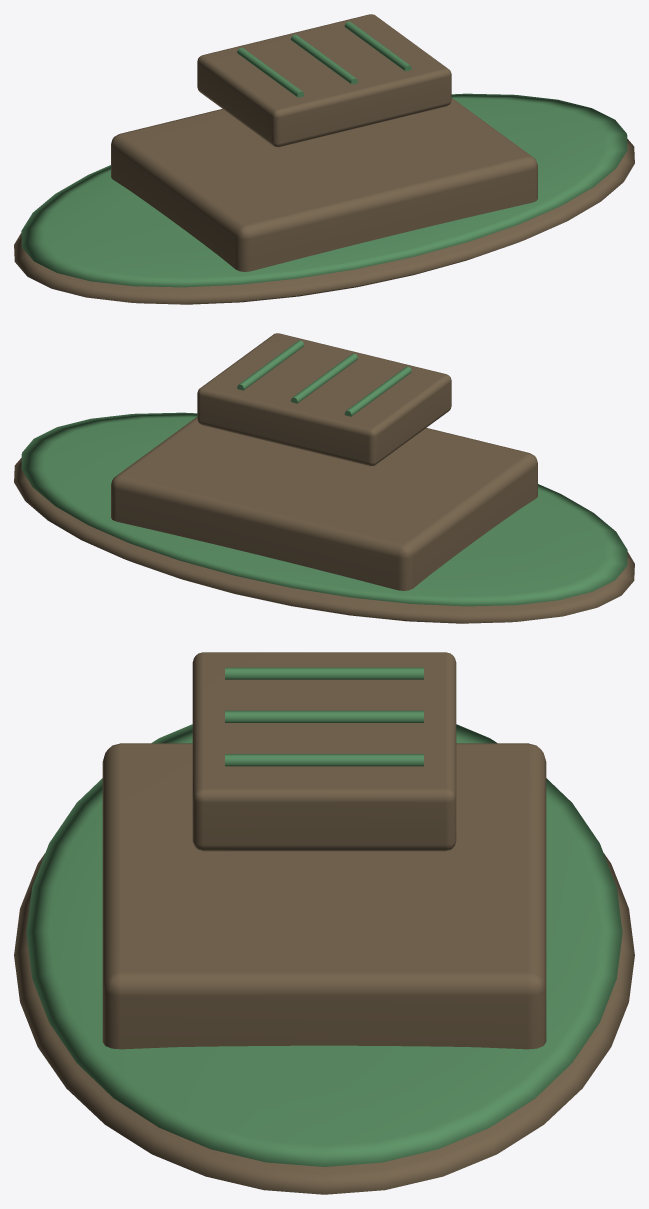
The model's file is inside-field.glb.
3 renders of one model, top to bottom at view 1: azimuth 30°, elevation 25°; view 2: azimuth 150°, elevation 25°; view 3: azimuth 270°, elevation 25°, orthographic. The views are drawn at different scales.
Visible parts, largest first — view 1: inside-field_surface_00, inside-field_surface_01; view 2: inside-field_surface_00, inside-field_surface_01; view 3: inside-field_surface_00, inside-field_surface_01.
Part boxes in pixels (x1,y1,x2,y2): inside-field_surface_00: [14, 14, 634, 304]; inside-field_surface_01: [21, 21, 627, 287]; inside-field_surface_00: [14, 333, 634, 623]; inside-field_surface_01: [21, 340, 627, 606]; inside-field_surface_00: [14, 652, 634, 1194]; inside-field_surface_01: [26, 667, 622, 1166].
Size of the model in its own units: 4.56 by 1.21 by 2.5.
